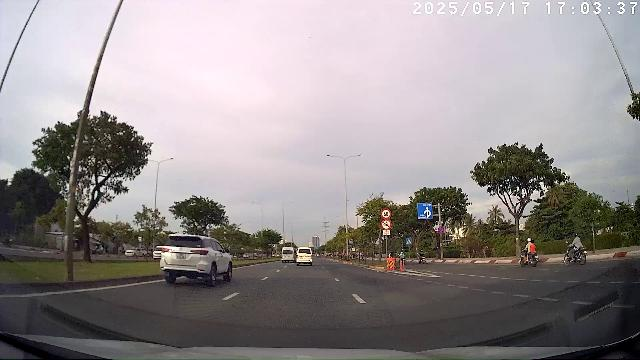127-toc-do-toi-da-60: (381, 209, 391, 219)
